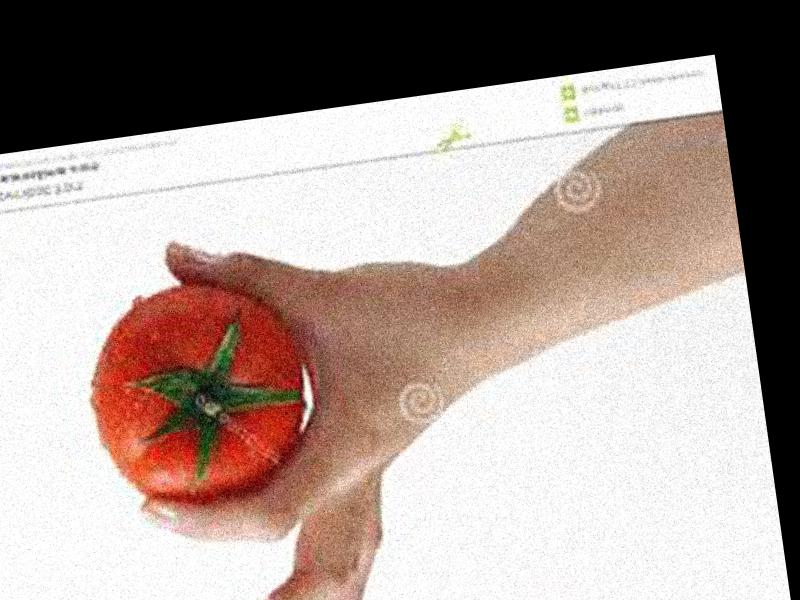Tomato: (77, 271, 319, 517)
